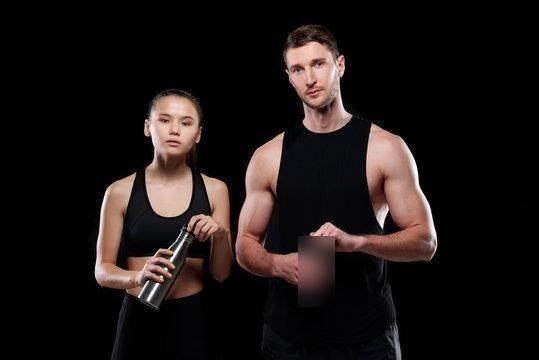gym bottle: (139, 213, 204, 314)
